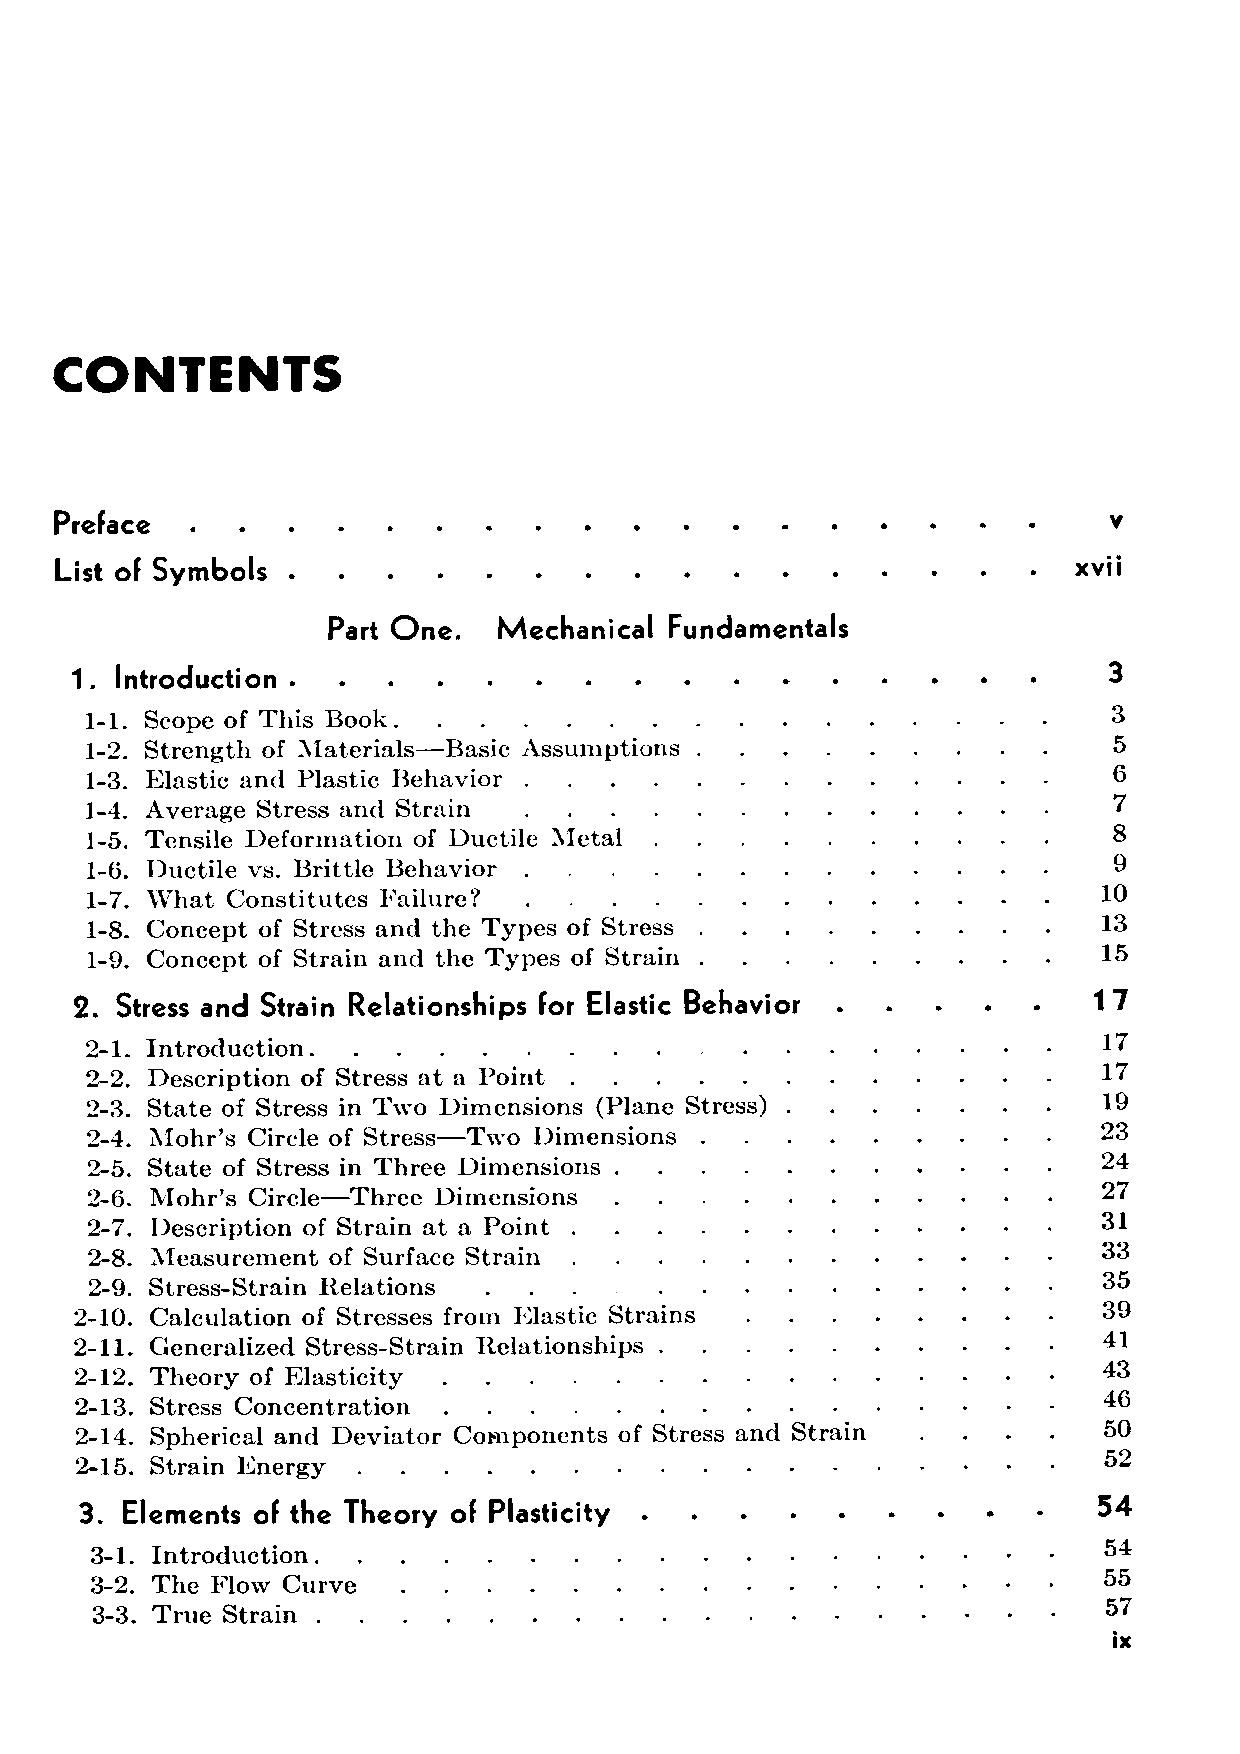TOC_chapter: (66, 988, 804, 1020), (318, 608, 852, 647), (71, 1423, 863, 1445), (75, 1496, 615, 1529), (85, 735, 683, 764), (85, 1095, 768, 1118), (87, 943, 680, 969), (71, 1334, 650, 1359), (85, 1125, 680, 1149), (72, 1304, 695, 1326), (85, 825, 625, 849), (87, 917, 676, 938), (87, 1241, 541, 1268), (86, 1184, 578, 1208), (85, 1155, 601, 1177), (85, 884, 482, 911), (85, 794, 480, 820), (85, 1215, 553, 1236), (85, 855, 498, 879), (83, 1066, 545, 1087), (83, 768, 505, 790), (85, 1274, 437, 1299), (72, 1394, 411, 1418), (71, 1363, 403, 1388), (50, 548, 268, 582), (71, 1452, 323, 1480), (79, 705, 389, 727), (89, 1570, 357, 1596), (63, 662, 285, 691), (79, 1033, 307, 1060), (93, 1602, 298, 1629), (85, 1543, 309, 1566), (48, 505, 152, 538)
TOC_pagenumber: (1070, 553, 1125, 576), (1091, 981, 1129, 1013), (1094, 1494, 1133, 1519), (1096, 1206, 1131, 1233), (1100, 1296, 1137, 1321), (1098, 1118, 1133, 1142), (1096, 1088, 1133, 1111), (1098, 939, 1131, 964), (1100, 1386, 1134, 1410), (1096, 1027, 1131, 1049), (1102, 1267, 1134, 1291), (1102, 1354, 1131, 1380), (1096, 880, 1129, 903), (1100, 1563, 1133, 1586), (1100, 1418, 1137, 1439), (1098, 1147, 1131, 1169), (1100, 1057, 1131, 1080), (1100, 1237, 1131, 1260), (1104, 1535, 1134, 1558), (1100, 1327, 1131, 1349), (1102, 1594, 1133, 1616), (1104, 656, 1126, 686), (1106, 509, 1130, 534), (1104, 1447, 1130, 1469), (1099, 1180, 1129, 1198), (1100, 911, 1129, 930), (1110, 823, 1130, 845), (1108, 792, 1129, 812), (1113, 760, 1130, 782), (1110, 699, 1126, 723), (1110, 852, 1129, 872), (1113, 733, 1126, 754)
chapter: (52, 356, 345, 392)
